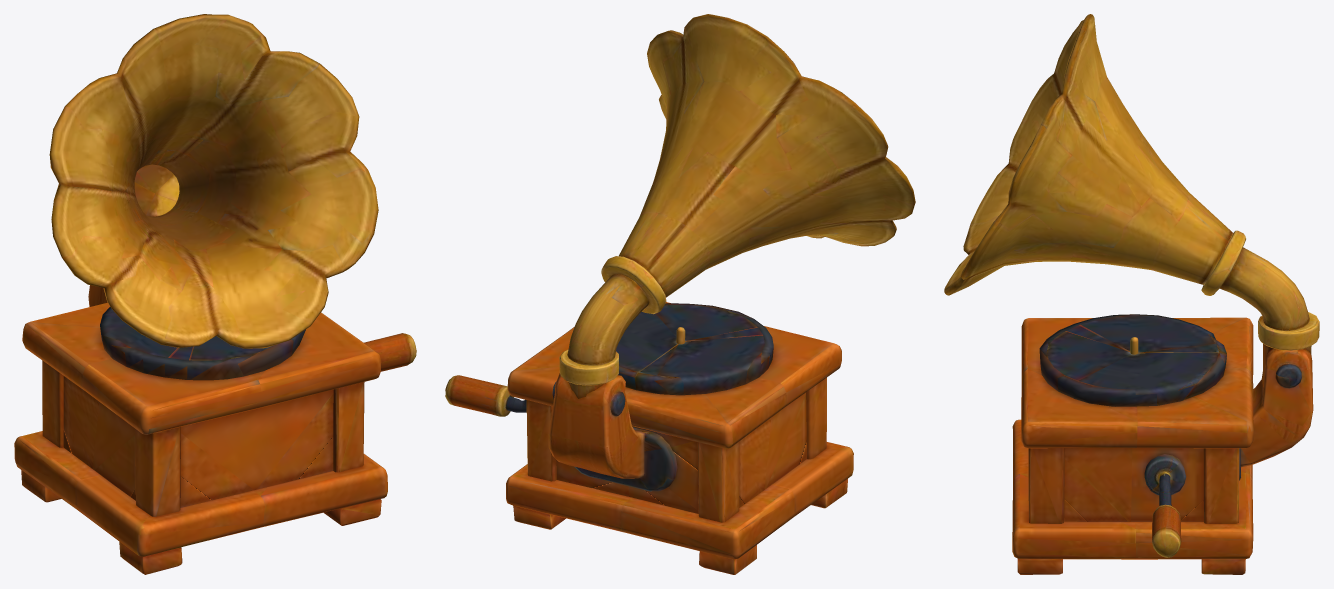
Rendered from trade_phono.glb.
3 views of the same model, side by side, from view 1: azimuth 30°, elevation 25°; view 2: azimuth 150°, elevation 25°; view 3: azimuth 270°, elevation 25° (orthographic). The views are drawn at different scales.
Bounding box in the file's own units: 0.8797 × 1 × 0.7084.
Materials: 1 (1 with a texture image).
